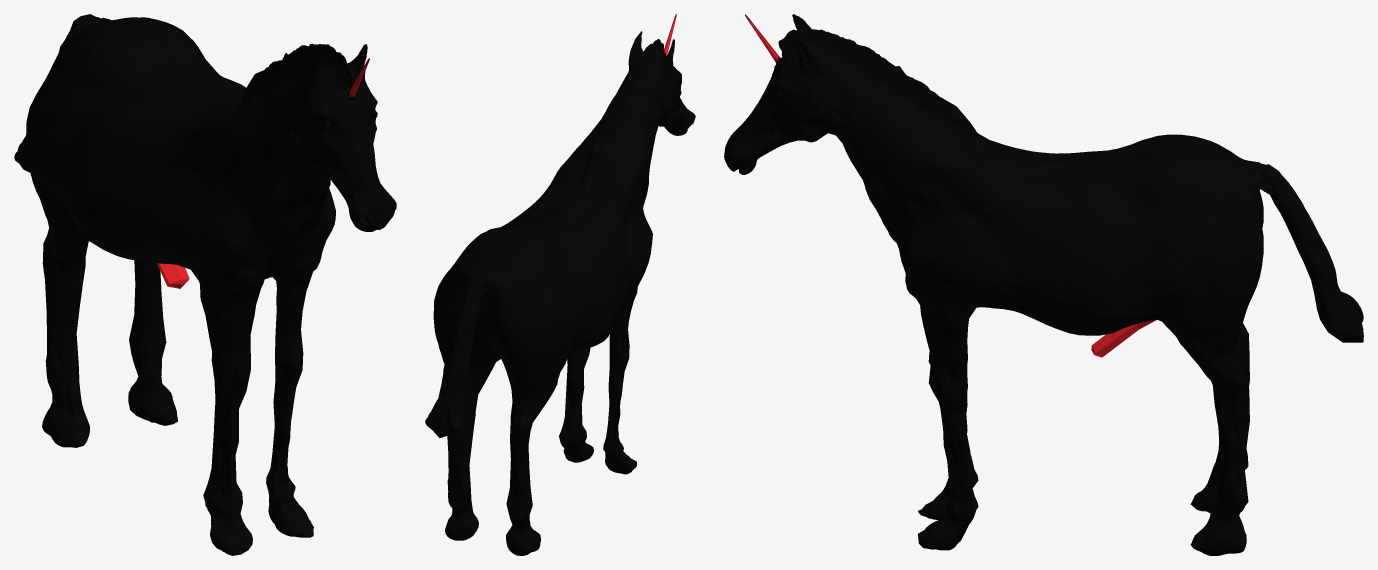
File: Unicornio.fbx
3 views of the same model, side by side, from view 1: azimuth 30°, elevation 25°; view 2: azimuth 150°, elevation 25°; view 3: azimuth 270°, elevation 25° (orthographic). The views are drawn at different scales.
Parts seen in each view (by area): view 1: kon; view 2: kon; view 3: kon.
Part boxes in pixels (x1=…): kon: x1=14, y1=14, x2=396, y2=555; kon: x1=425, y1=14, x2=695, y2=555; kon: x1=724, y1=14, x2=1363, y2=555.
Bounding box in the file's own units: 1.26 × 3.38 × 3.78.
Materials: 2 (2 with a texture image).
